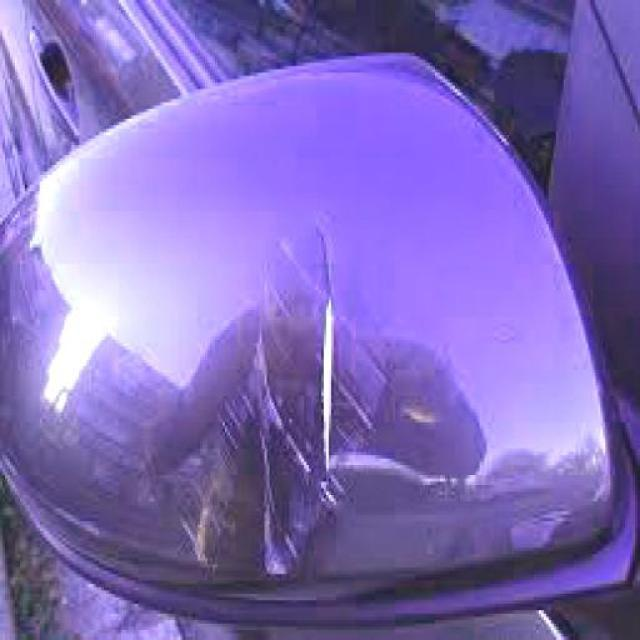Car-Damage: (160, 215, 413, 579)
